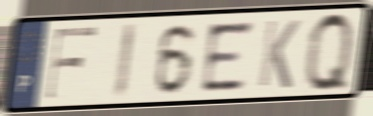6: (153, 21, 199, 97)
E: (199, 18, 255, 95)
F: (43, 25, 100, 103)
I: (111, 20, 139, 102)
K: (256, 17, 303, 91)
Q: (304, 8, 355, 95)
